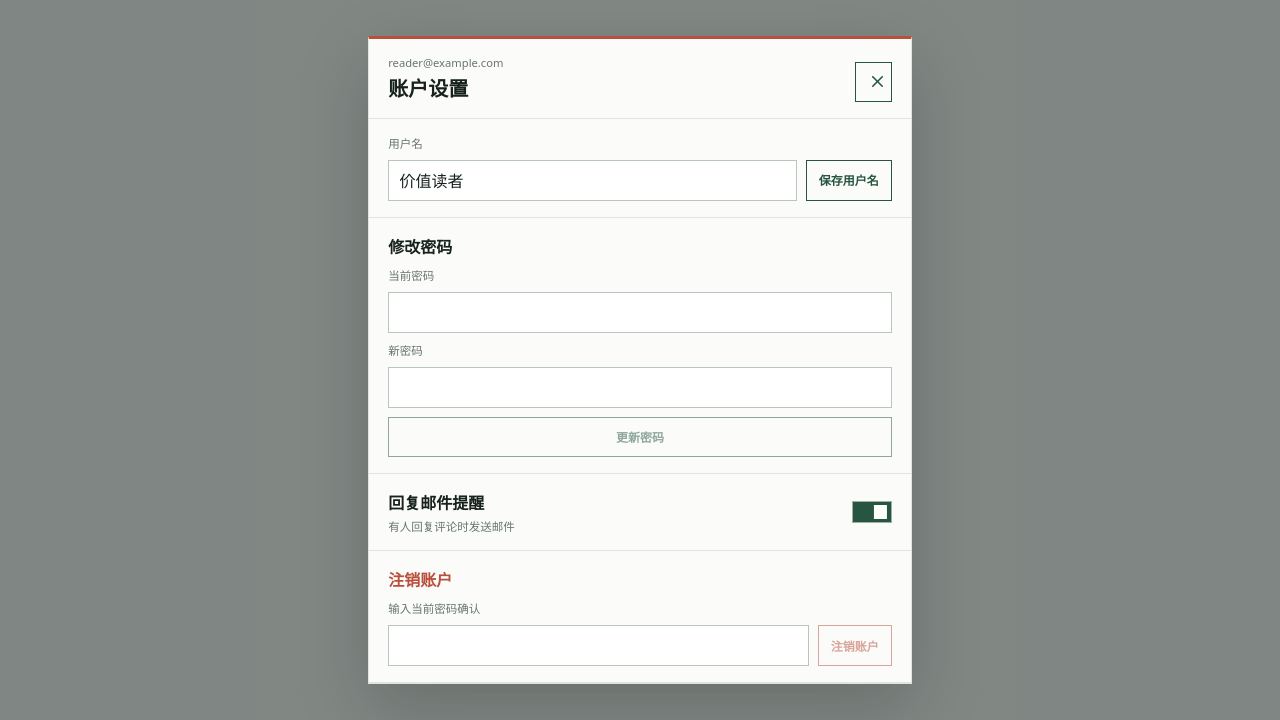
Test: AccountDialog › restores the reply-email toggle when saving the preference fails
Click the checkbox named "reply-email-enabled".
click(872, 512)  # box [852, 502, 892, 523]
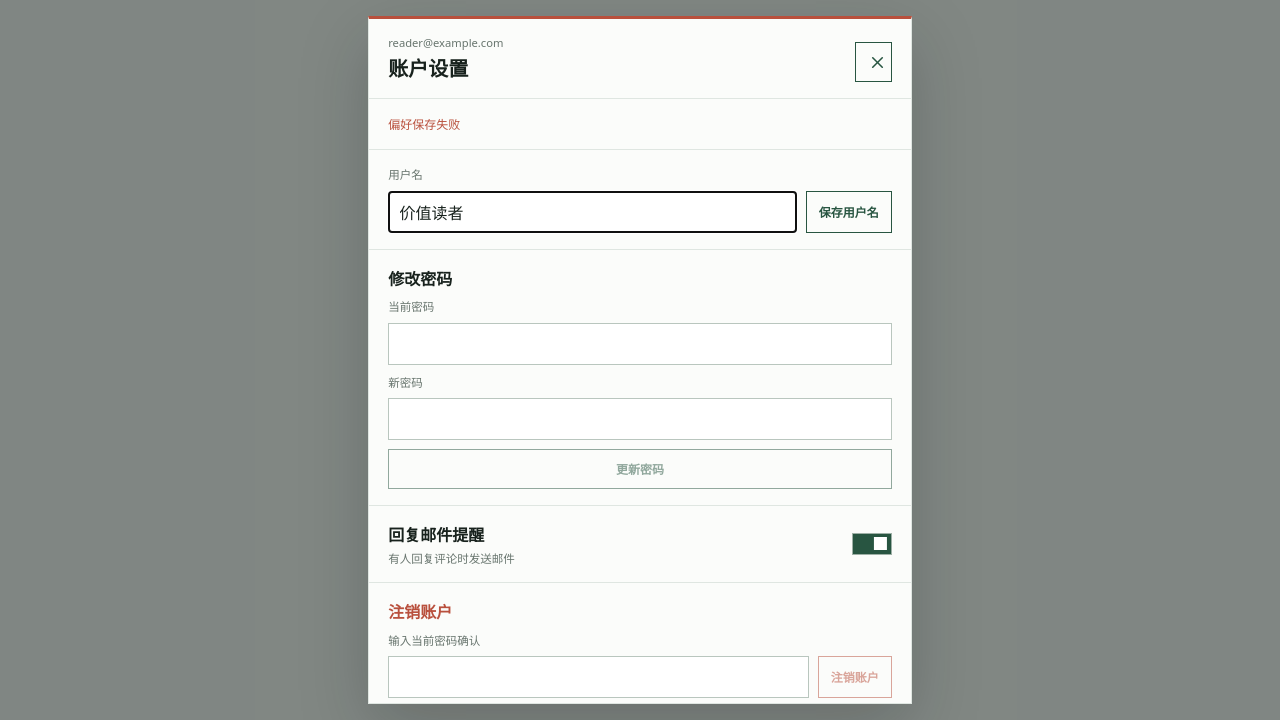
Check: the checkbox named "reply-email-enabled" is checked, box [852, 533, 892, 555]
Check: the message "偏好保存失败" is shown, box [369, 99, 911, 150]
